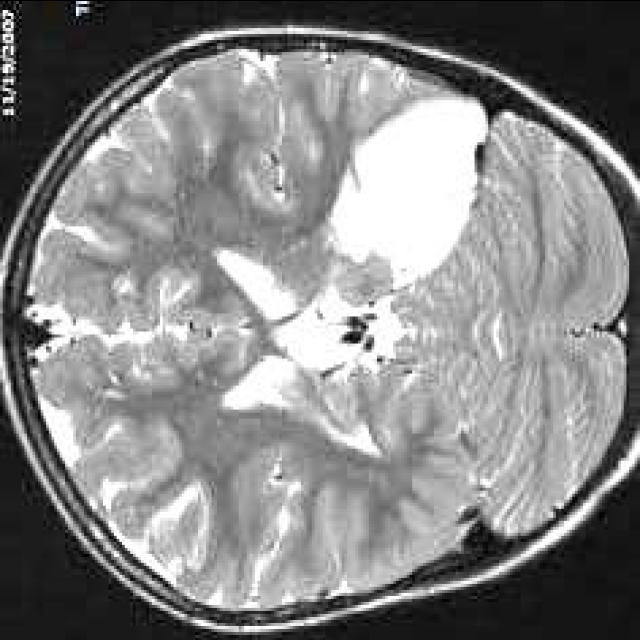tumor: (325, 90, 488, 291)
